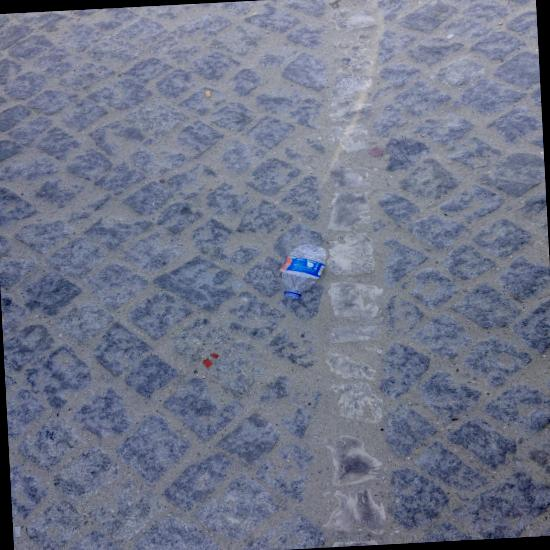Cigarette: (15, 526, 21, 537), (446, 34, 456, 39), (205, 90, 212, 97)
Clear plastic bottle: (280, 245, 329, 299)
Other plastic bottle: (279, 257, 325, 279)
